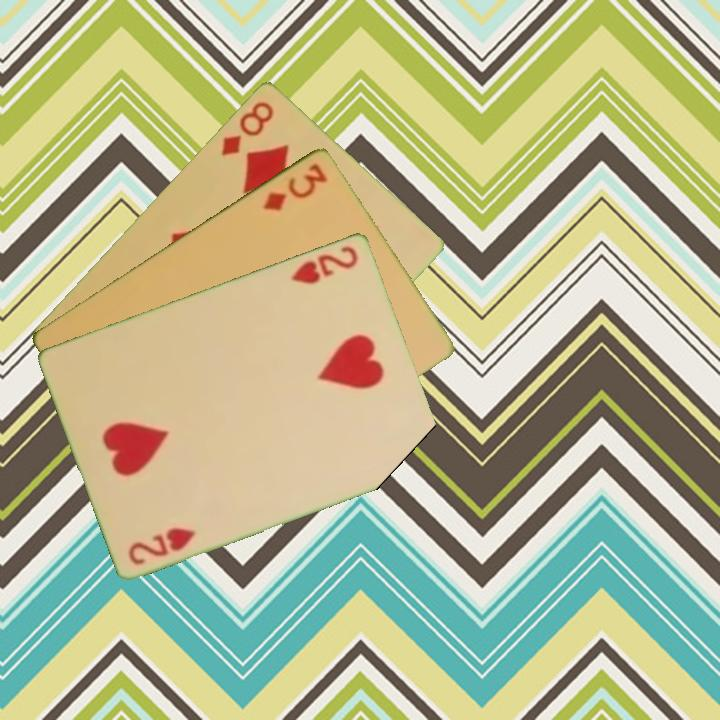2h: (288, 241, 362, 287), (125, 523, 199, 568)
3d: (259, 159, 330, 214)
8d: (217, 97, 277, 159)
